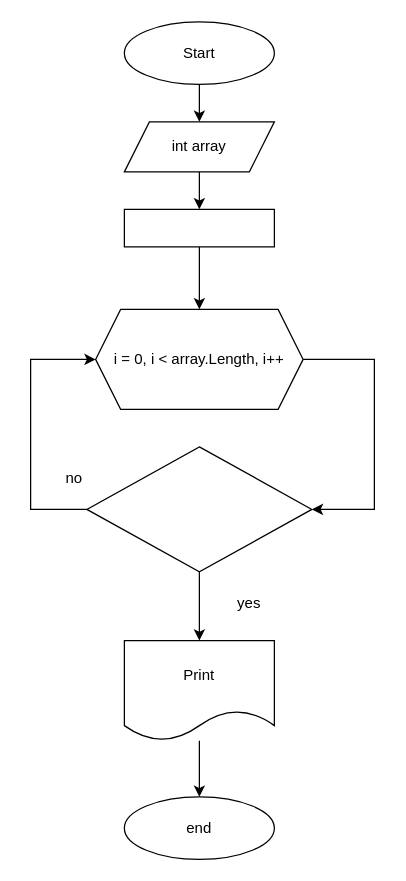
Some shapes in this 406 by 881 pixel diagram are drawn without their labels. Here are the shapes that lost their labels. From the top down, the centre of each, then its label:
the point at 198,227: int size = 3
the point at 199,509: If array[i].Length <=size
